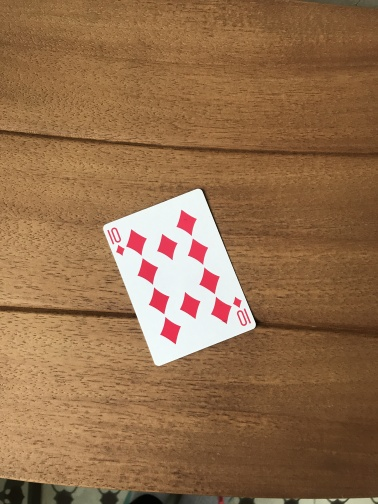ten: (101, 186, 257, 368)
